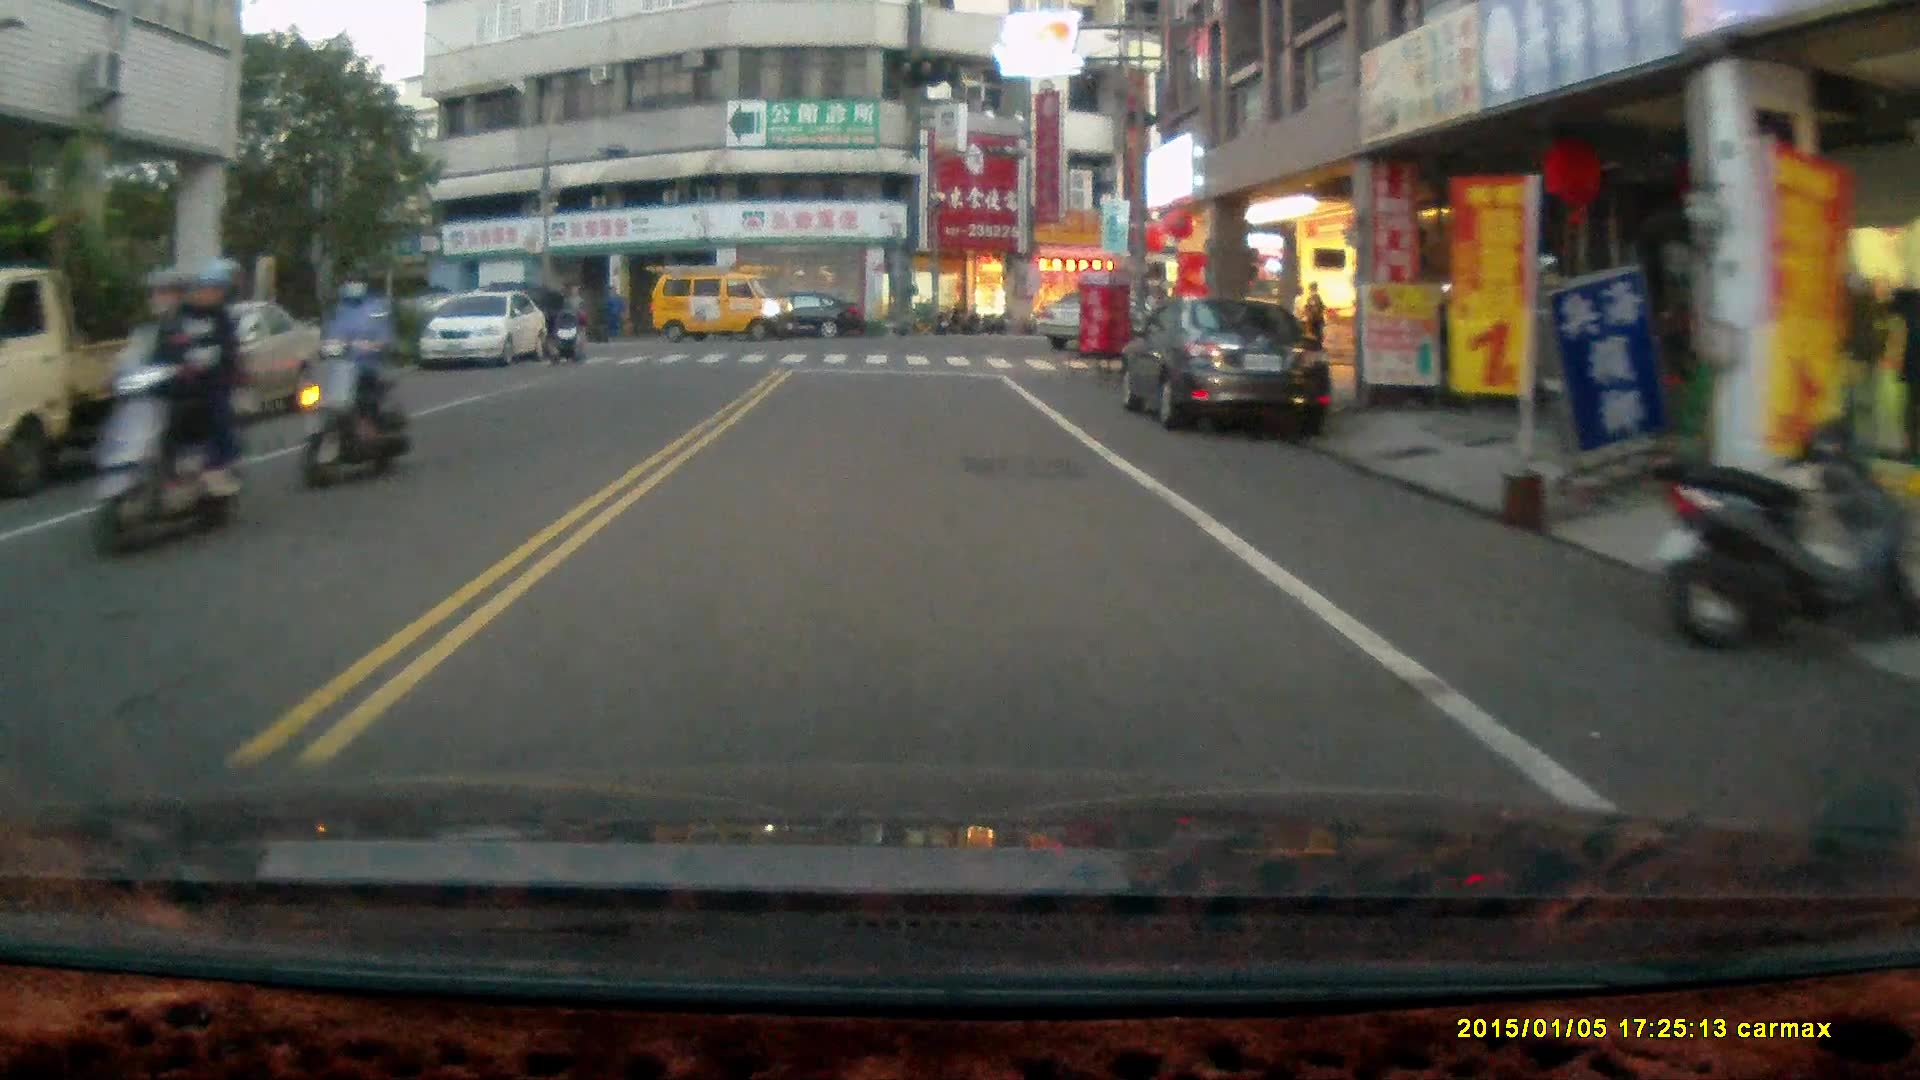pedestrian: (1303, 278, 1328, 364)
rider: (86, 252, 252, 562), (300, 253, 415, 493), (545, 305, 589, 366)
vehicle: (1, 264, 246, 486), (1118, 292, 1345, 445), (161, 297, 337, 426), (651, 260, 795, 344), (417, 288, 546, 369), (741, 288, 867, 339)
